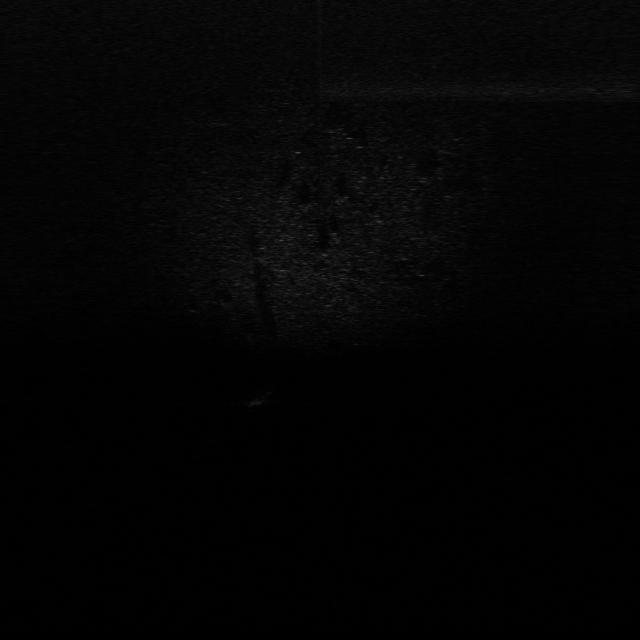human body: (243, 381, 278, 419)
